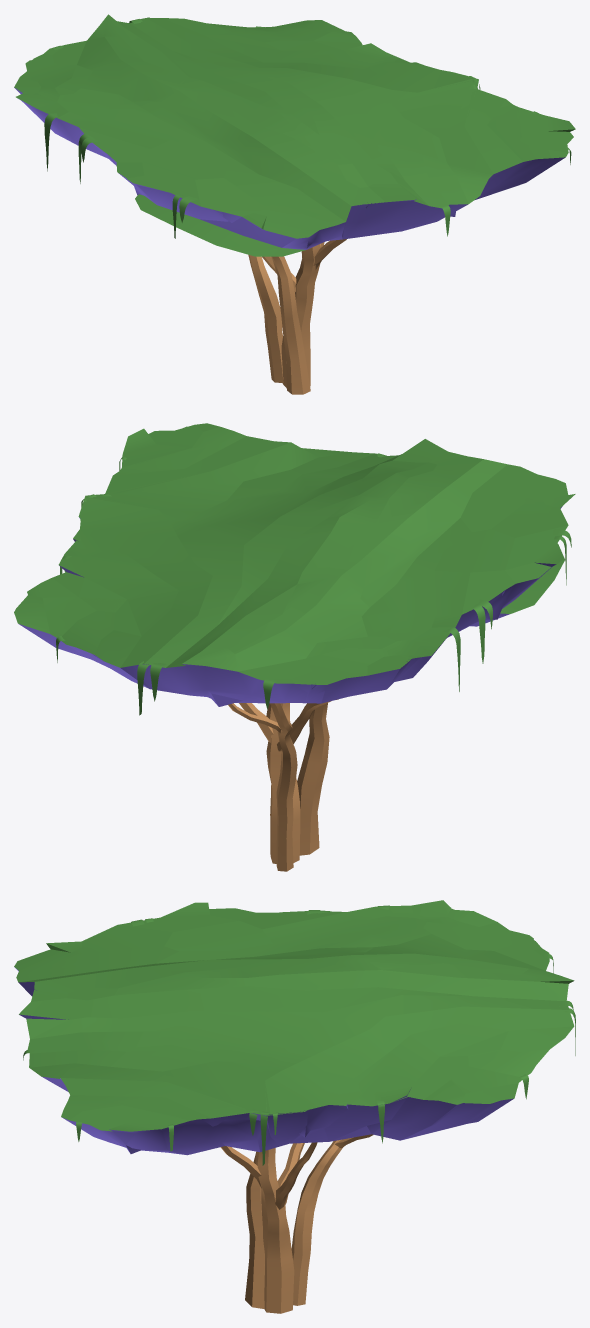
The model's file is tree_D_canopy_A_solo.fbx.
3 views of the same model, one above another, from view 1: azimuth 30°, elevation 25°; view 2: azimuth 150°, elevation 25°; view 3: azimuth 270°, elevation 25° (orthographic). The views are drawn at different scales.
Parts seen in each view (by area): view 1: tree_D_canopy_A_extruded, tree_D_canopy_A, tree_D_canopy_A_trunks_C, tree_D_canopy_A_trunks_B, tree_D_canopy_A_trunks_A; view 2: tree_D_canopy_A_extruded, tree_D_canopy_A, tree_D_canopy_A_trunks_C, tree_D_canopy_A_trunks_B, tree_D_canopy_A_trunks_A; view 3: tree_D_canopy_A_extruded, tree_D_canopy_A, tree_D_canopy_A_trunks_A, tree_D_canopy_A_trunks_B, tree_D_canopy_A_trunks_C, tree_D_canopy_A_trunks_D.
Boxes of the visible parts, left/top/right/bottom form: tree_D_canopy_A_extruded: left=14, top=18, right=573, bottom=256; tree_D_canopy_A: left=15, top=14, right=575, bottom=249; tree_D_canopy_A_trunks_C: left=271, top=256, right=310, bottom=394; tree_D_canopy_A_trunks_B: left=248, top=254, right=283, bottom=382; tree_D_canopy_A_trunks_A: left=281, top=244, right=320, bottom=388; tree_D_canopy_A_extruded: left=14, top=423, right=568, bottom=703; tree_D_canopy_A: left=19, top=428, right=575, bottom=706; tree_D_canopy_A_trunks_C: left=297, top=703, right=329, bottom=855; tree_D_canopy_A_trunks_B: left=270, top=703, right=297, bottom=871; tree_D_canopy_A_trunks_A: left=266, top=703, right=300, bottom=863; tree_D_canopy_A_extruded: left=14, top=905, right=574, bottom=1152; tree_D_canopy_A: left=14, top=900, right=574, bottom=1155; tree_D_canopy_A_trunks_A: left=255, top=1148, right=294, bottom=1313; tree_D_canopy_A_trunks_B: left=291, top=1139, right=342, bottom=1305; tree_D_canopy_A_trunks_C: left=245, top=1152, right=264, bottom=1308; tree_D_canopy_A_trunks_D: left=275, top=1142, right=317, bottom=1209.
Size of the model in its own units: 781 by 535 by 869.
